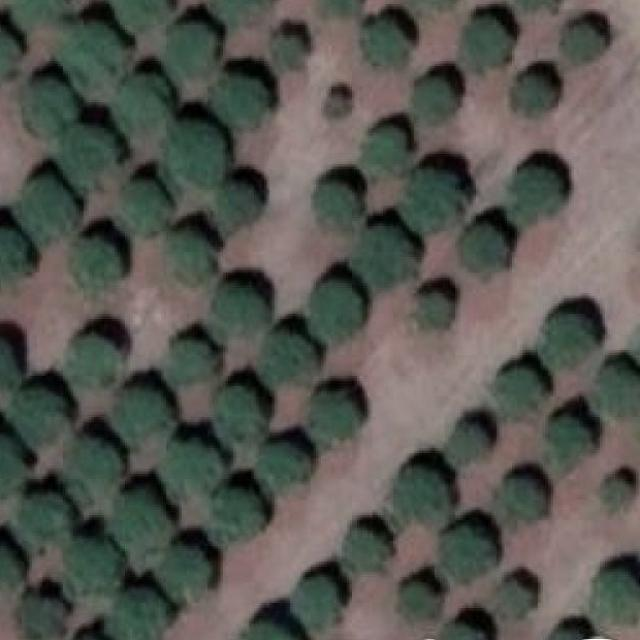Tree: (394, 464, 461, 530), (404, 164, 464, 234), (112, 492, 172, 562), (306, 276, 366, 342), (117, 71, 171, 144), (60, 19, 120, 82), (507, 164, 567, 226), (166, 126, 226, 188), (158, 434, 220, 494), (354, 223, 414, 283), (16, 180, 74, 242), (212, 381, 270, 443), (60, 546, 120, 603), (210, 71, 272, 126), (60, 438, 122, 492), (440, 524, 491, 588), (488, 363, 545, 420), (60, 128, 114, 188), (261, 332, 316, 390), (24, 76, 75, 138), (289, 575, 344, 632), (540, 312, 597, 363), (302, 391, 360, 441), (166, 22, 216, 80), (213, 280, 262, 338), (112, 386, 163, 441), (210, 487, 261, 542), (454, 226, 509, 276), (166, 231, 216, 286), (68, 234, 118, 289), (107, 595, 167, 640), (117, 183, 166, 237), (68, 332, 118, 384), (457, 15, 507, 66), (357, 17, 409, 66), (161, 551, 211, 601), (595, 569, 640, 624), (339, 522, 388, 572), (362, 123, 409, 174), (259, 451, 309, 498), (13, 391, 63, 438), (19, 494, 65, 544), (495, 474, 540, 525), (447, 422, 491, 474), (313, 183, 357, 234), (548, 415, 590, 467), (215, 180, 261, 226), (168, 332, 213, 379), (600, 367, 640, 417), (398, 582, 440, 629), (514, 69, 555, 116), (19, 594, 60, 640), (416, 76, 457, 121), (560, 25, 600, 71), (0, 429, 25, 502), (493, 579, 535, 618), (414, 294, 455, 332), (210, 0, 272, 25), (0, 226, 27, 281), (118, 0, 172, 27), (274, 30, 306, 69), (0, 28, 20, 79), (602, 477, 633, 508), (0, 544, 17, 596), (0, 337, 17, 386), (16, 0, 63, 17), (323, 92, 347, 118), (512, 0, 559, 12), (416, 0, 461, 12), (321, 0, 360, 9)
